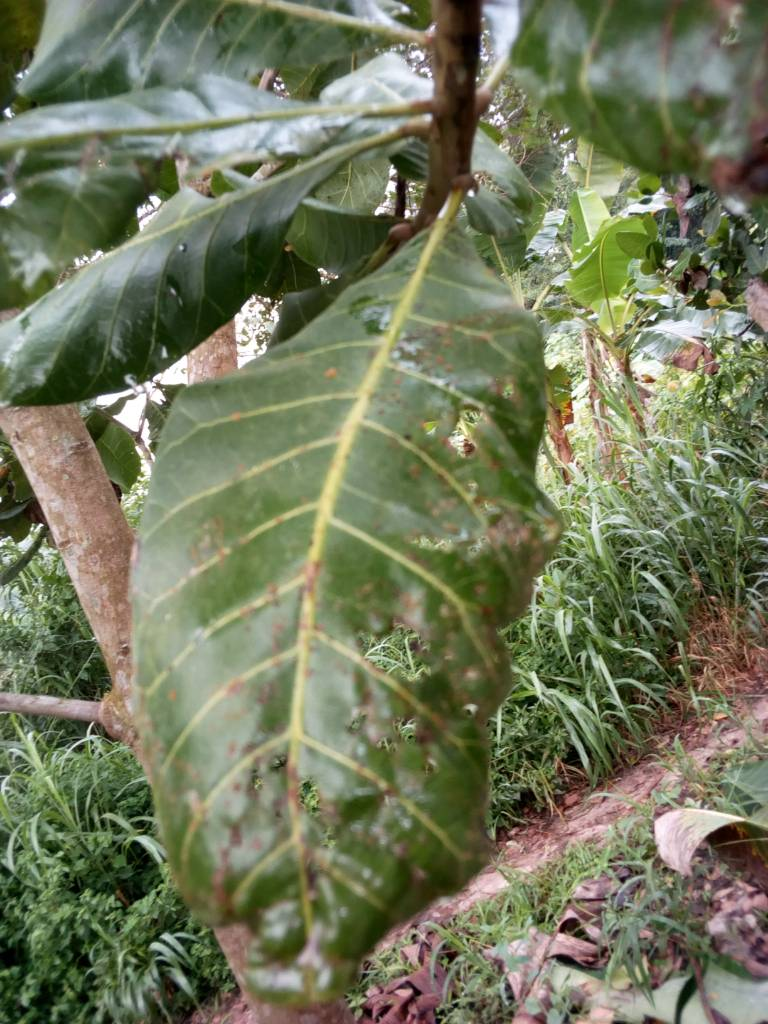Helopeltis anacardii: (140, 222, 544, 992)
